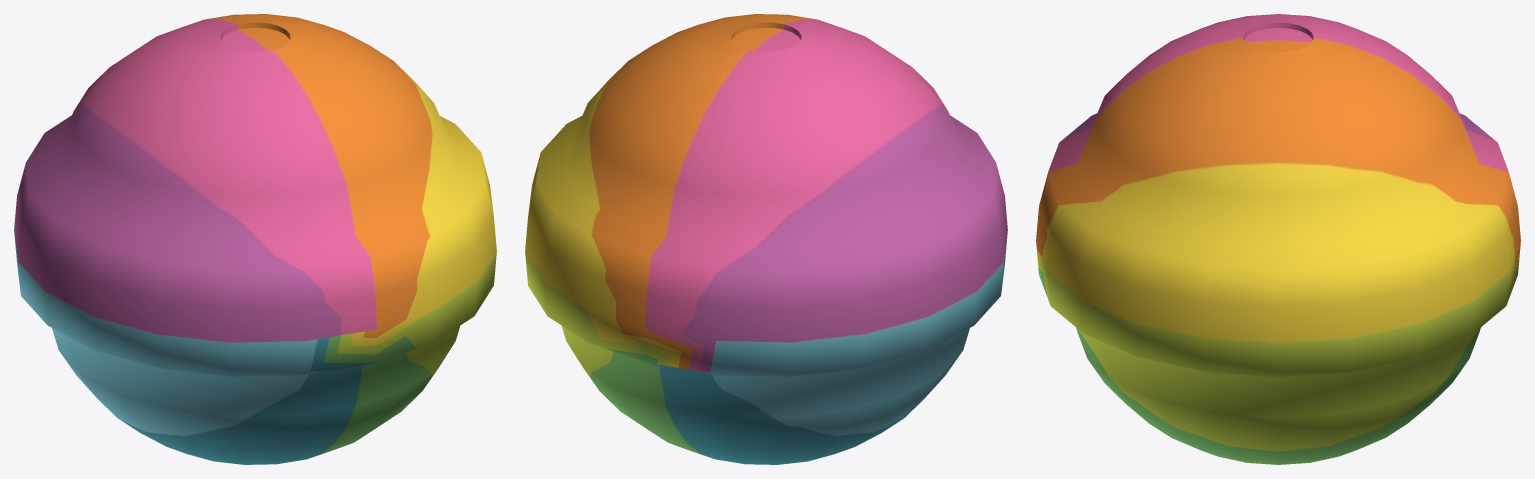
Rendered from jawbreaker.fbx.
3 renders of one model, left to right at view 1: azimuth 30°, elevation 25°; view 2: azimuth 150°, elevation 25°; view 3: azimuth 270°, elevation 25°, orthographic.
Parts seen in each view (by area): view 1: pSphere1; view 2: pSphere1; view 3: pSphere1.
Boxes of the visible parts, x1,y1,x2,y2 form: pSphere1: (14,14,496,464); pSphere1: (525,14,1007,464); pSphere1: (1036,14,1520,464).
Size of the model in its own units: 6.27 by 5.8 by 6.27.
